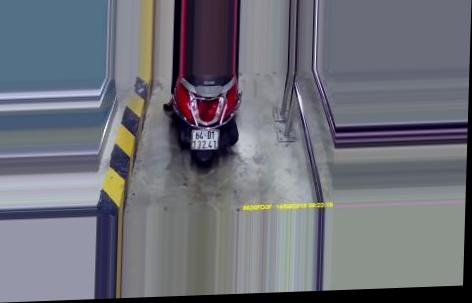License_Plate: (187, 126, 221, 154)
